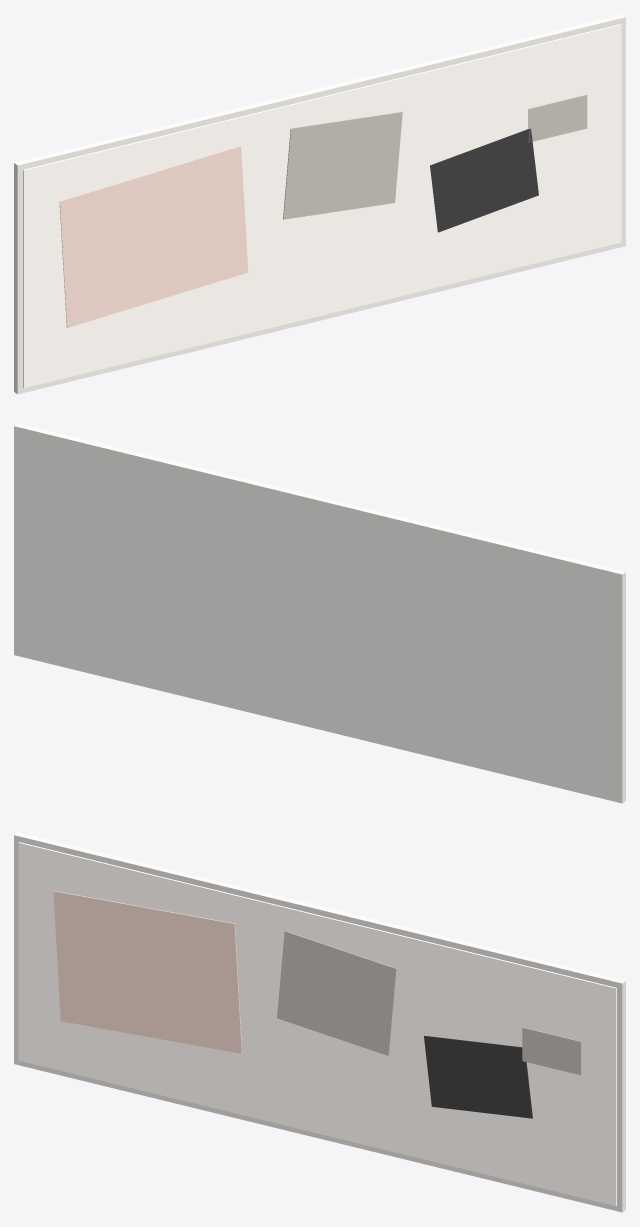
Rendered from art_e.glb.
3 renders of one model, top to bottom at view 1: azimuth 30°, elevation 25°; view 2: azimuth 150°, elevation 25°; view 3: azimuth 330°, elevation 25°, orthographic.
Visible parts, largest first — view 1: root; view 2: root; view 3: root.
Part boxes in pixels (bbox=[...]): root: bbox=[14, 14, 625, 394]; root: bbox=[14, 423, 625, 803]; root: bbox=[14, 832, 625, 1212].
Bounding box in the file's own units: 1.74 × 0.6248 × 0.0253.
